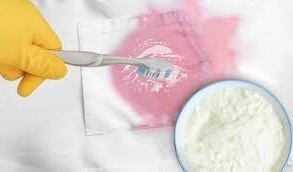wine: (132, 12, 235, 69), (109, 80, 173, 125), (107, 34, 140, 54), (181, 67, 199, 88), (113, 74, 120, 83)
